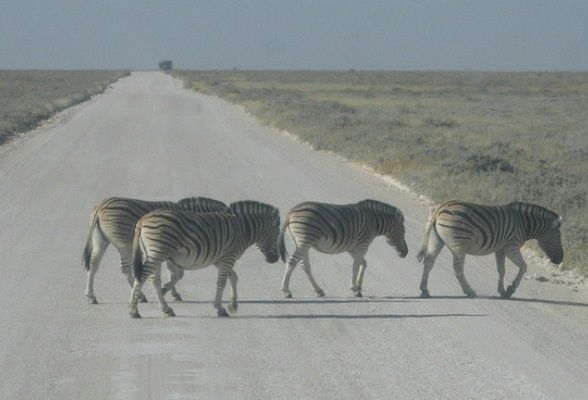zebra: (206, 261, 359, 381), (157, 250, 315, 365), (342, 246, 470, 344), (491, 248, 588, 351)
